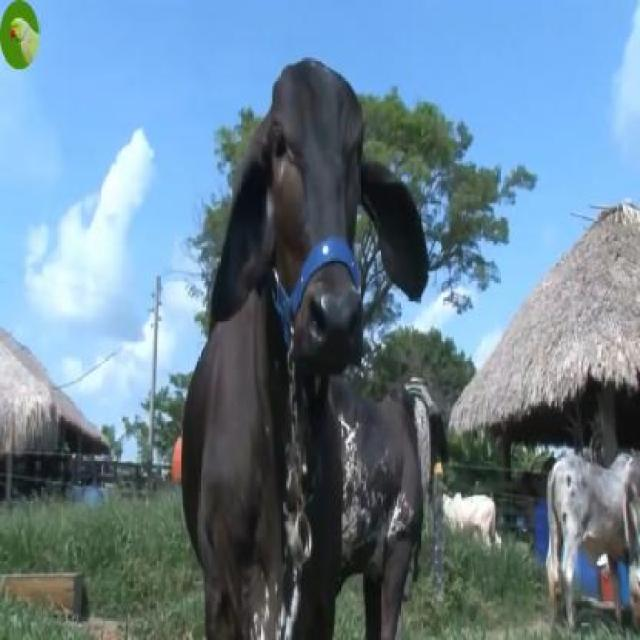Cow: (182, 59, 428, 638)
